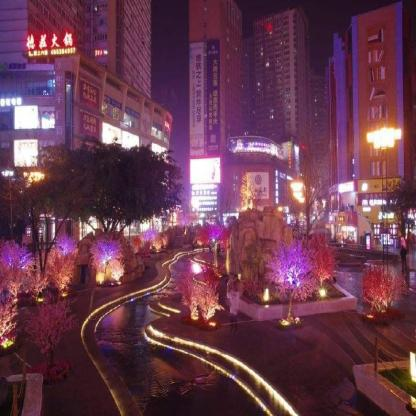other: (8, 101, 44, 169), (188, 142, 228, 198), (101, 118, 139, 154), (362, 125, 404, 157), (187, 251, 206, 284)
